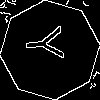Y: (25, 25, 74, 62)
